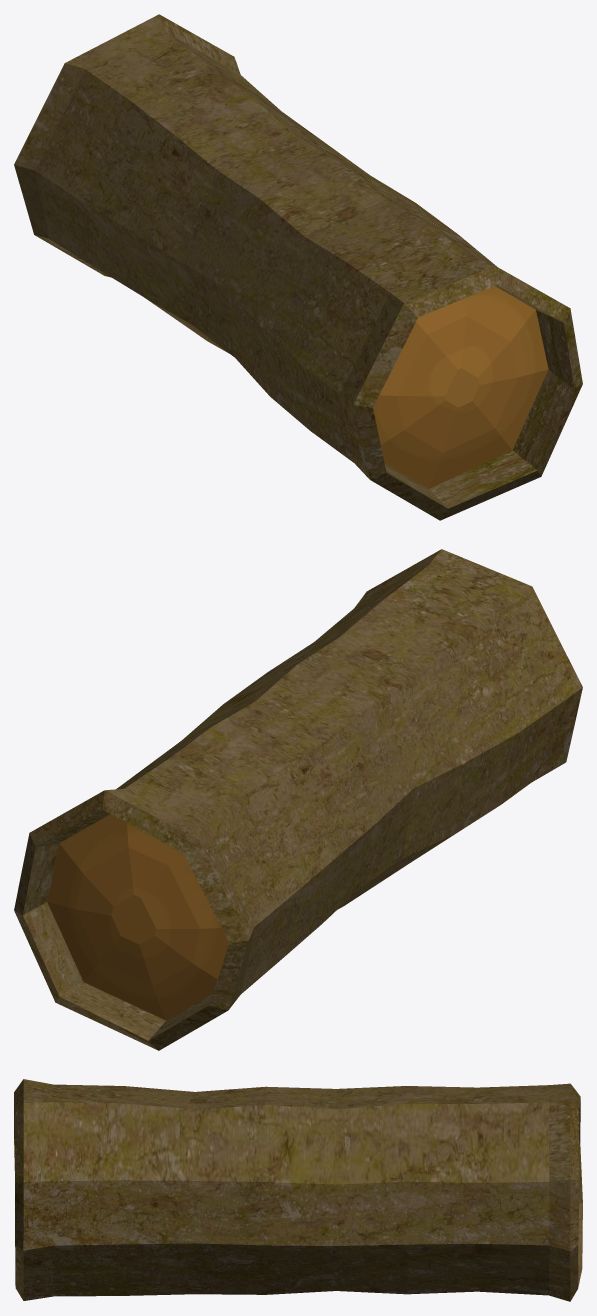
Rendered from Log 1.fbx.
3 views of the same model, one above another, from view 1: azimuth 30°, elevation 25°; view 2: azimuth 150°, elevation 25°; view 3: azimuth 270°, elevation 25° (orthographic). The views are drawn at different scales.
Parts seen in each view (by area): view 1: Log; view 2: Log; view 3: Log.
Boxes of the visible parts, x1,y1,x2,y2 form: Log: [14, 14, 582, 520]; Log: [14, 549, 582, 1050]; Log: [14, 1079, 582, 1301].
Bounding box in the file's own units: 223 × 224 × 573.
1 material, 1 textured.
